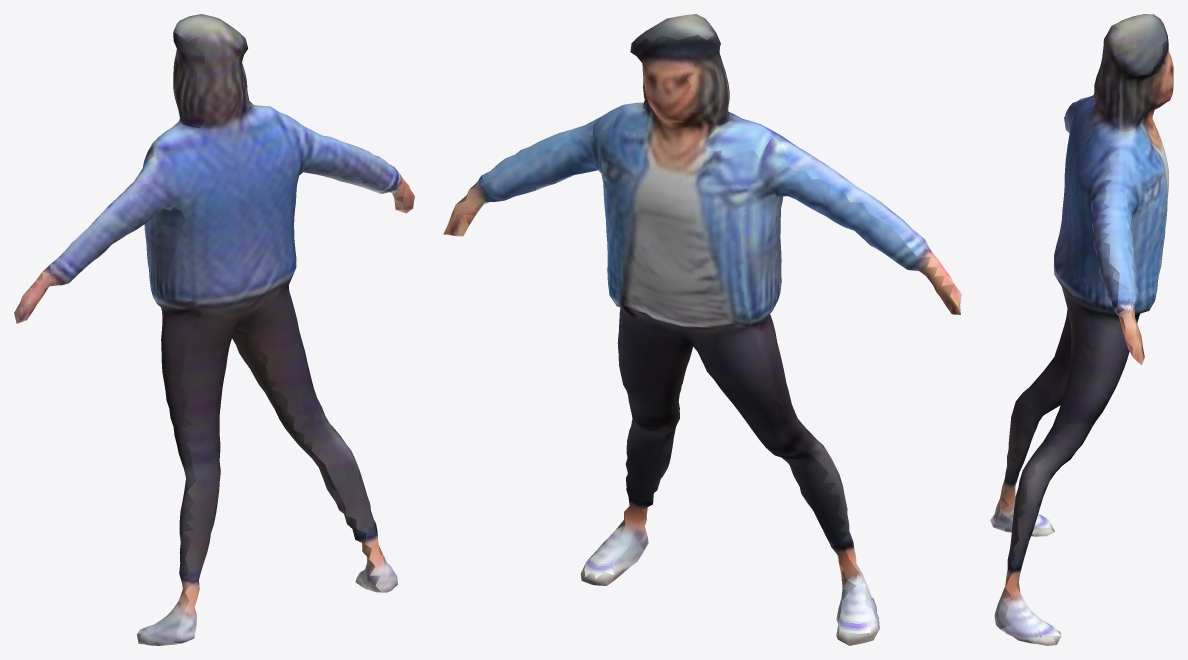
3 views of the same model, side by side, from view 1: azimuth 30°, elevation 25°; view 2: azimuth 150°, elevation 25°; view 3: azimuth 270°, elevation 25° (orthographic). The views are drawn at different scales.
Visible parts, largest first — view 1: world; view 2: world; view 3: world.
Boxes of the visible parts, x1,y1,x2,y2 form: world: [14, 14, 414, 645]; world: [443, 14, 961, 645]; world: [990, 14, 1173, 645].
Size of the model in its own units: 0.6552 by 0.8197 by 0.2429.
1 material, 1 textured.
